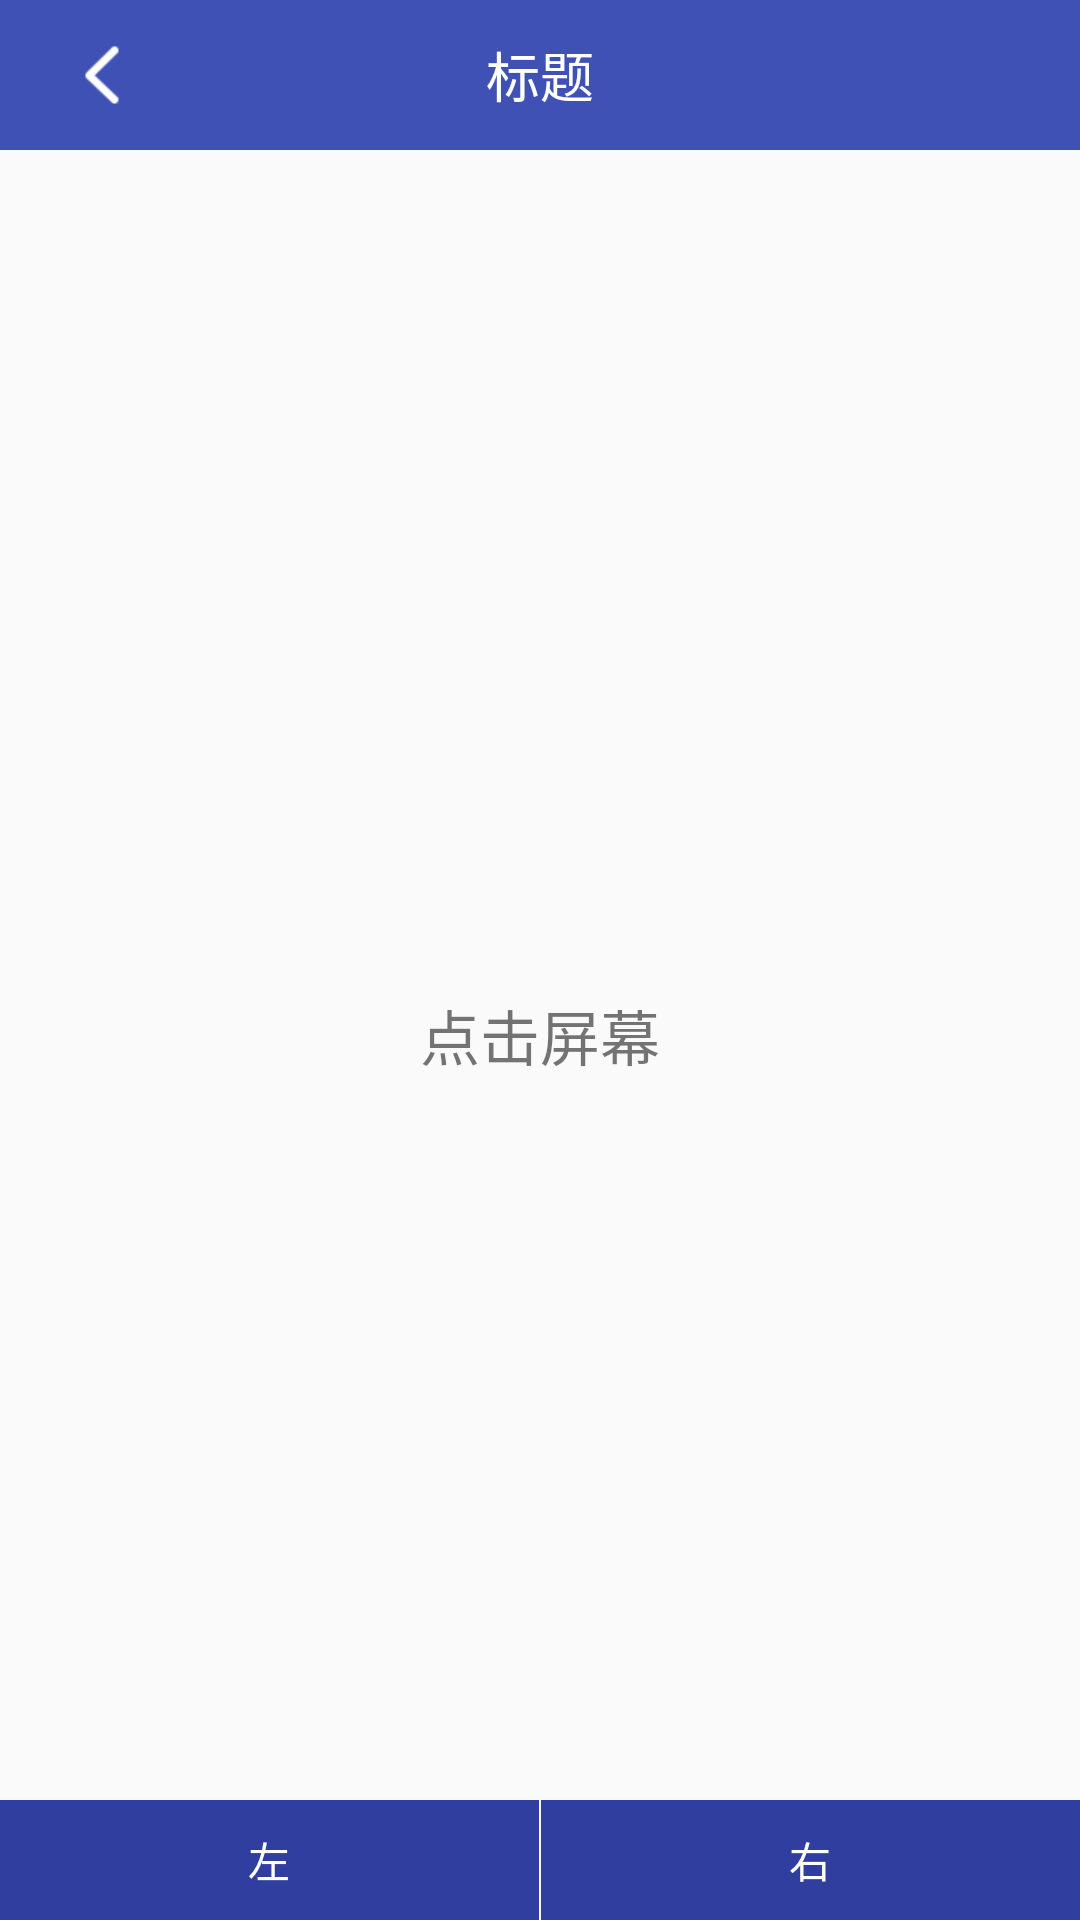

Icons on this 1080 x 1920 Android screen, each with the point to tap as (x=x, y=y):
back: (x=102, y=75)
